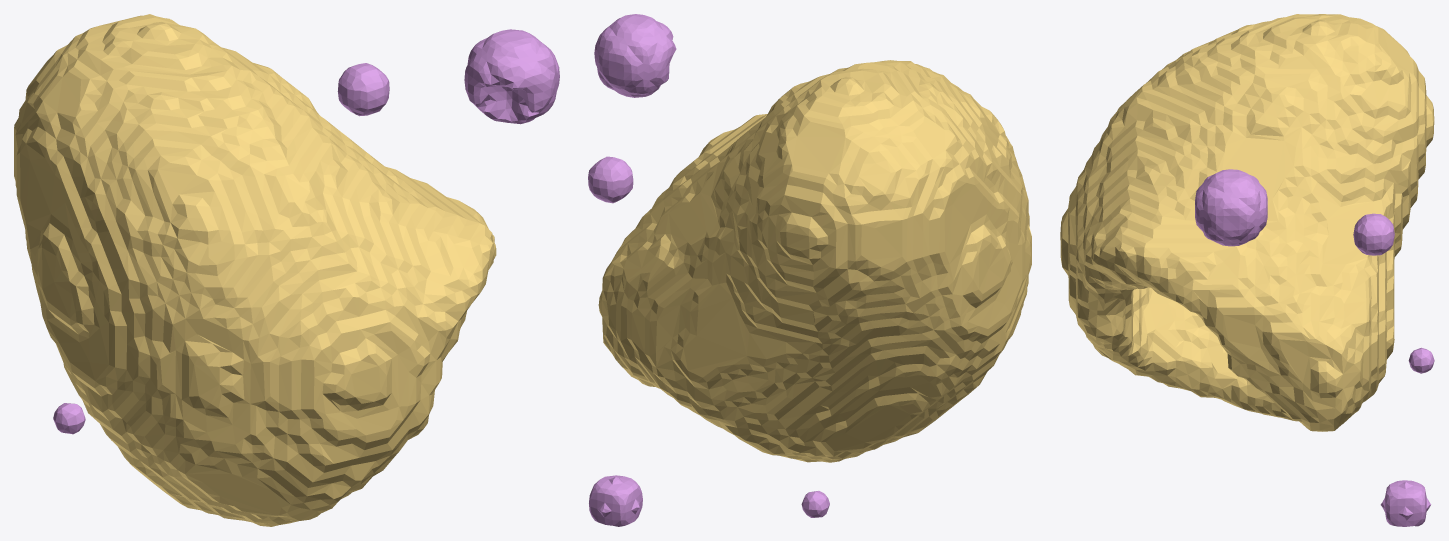
The model's file is prompt.glb.
The picture shows the model from 3 angles, left to right: view 1: azimuth 30°, elevation 25°; view 2: azimuth 150°, elevation 25°; view 3: azimuth 270°, elevation 25°; orthographic projection. The views are drawn at different scales.
Parts seen in each view (by area): view 1: world; view 2: world; view 3: world.
Boxes of the visible parts, box(x1,y1,x2,y2) form: world: box(14, 14, 559, 526); world: box(588, 14, 1031, 526); world: box(1060, 14, 1434, 526).
Size of the model in its own units: 0.8619 by 0.9012 by 0.7381.
